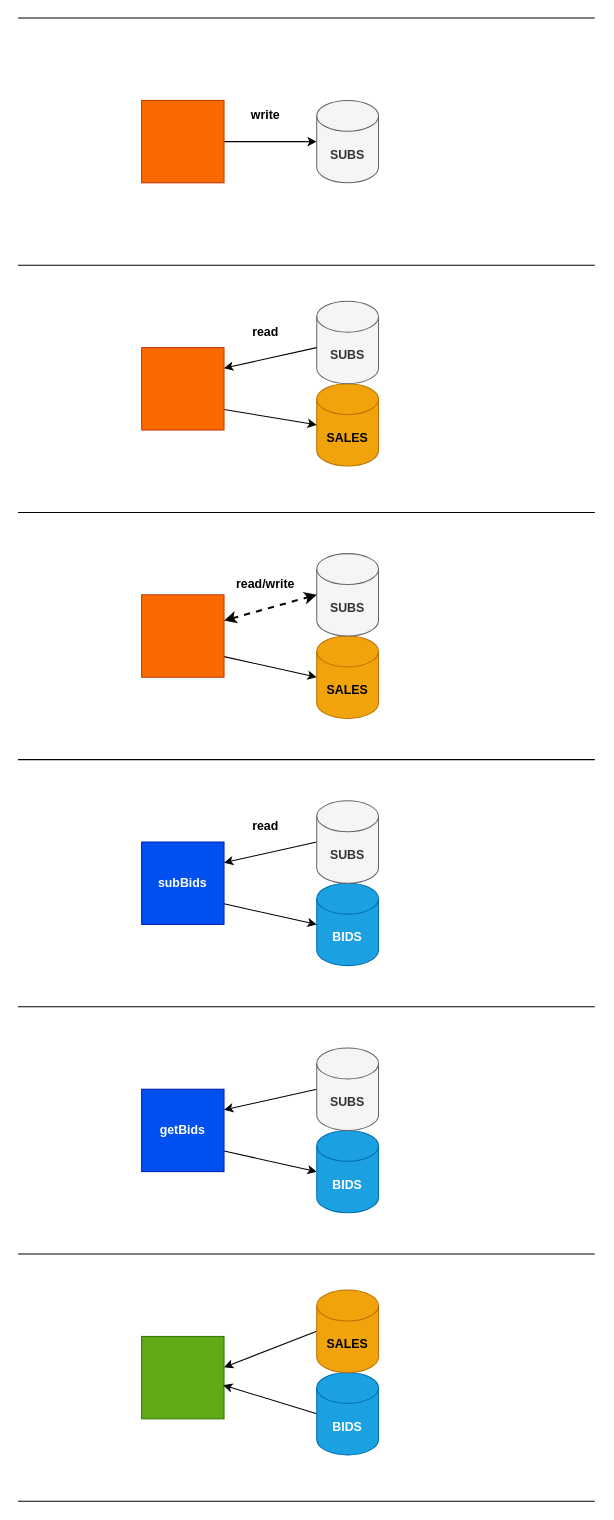
Image size: 614x1520. Some labels were removed from this diagram. The shapes that lost their labels are listed below. From the top down, each one's centre as x and y in pixels, then its label:
At point 182,141: "getSubs".
At point 182,388: "getSales".
At point 182,635: "subSales".
At point 182,1377: "bot".
